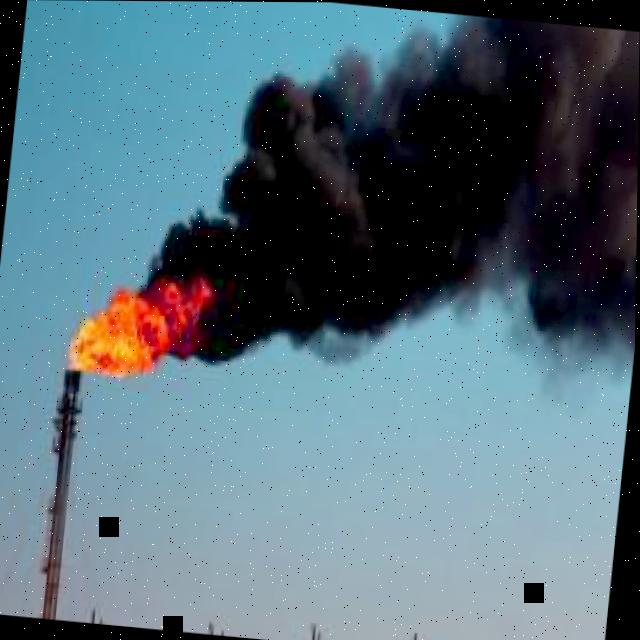fire: (70, 276, 214, 378)
smoke: (136, 13, 640, 392)
